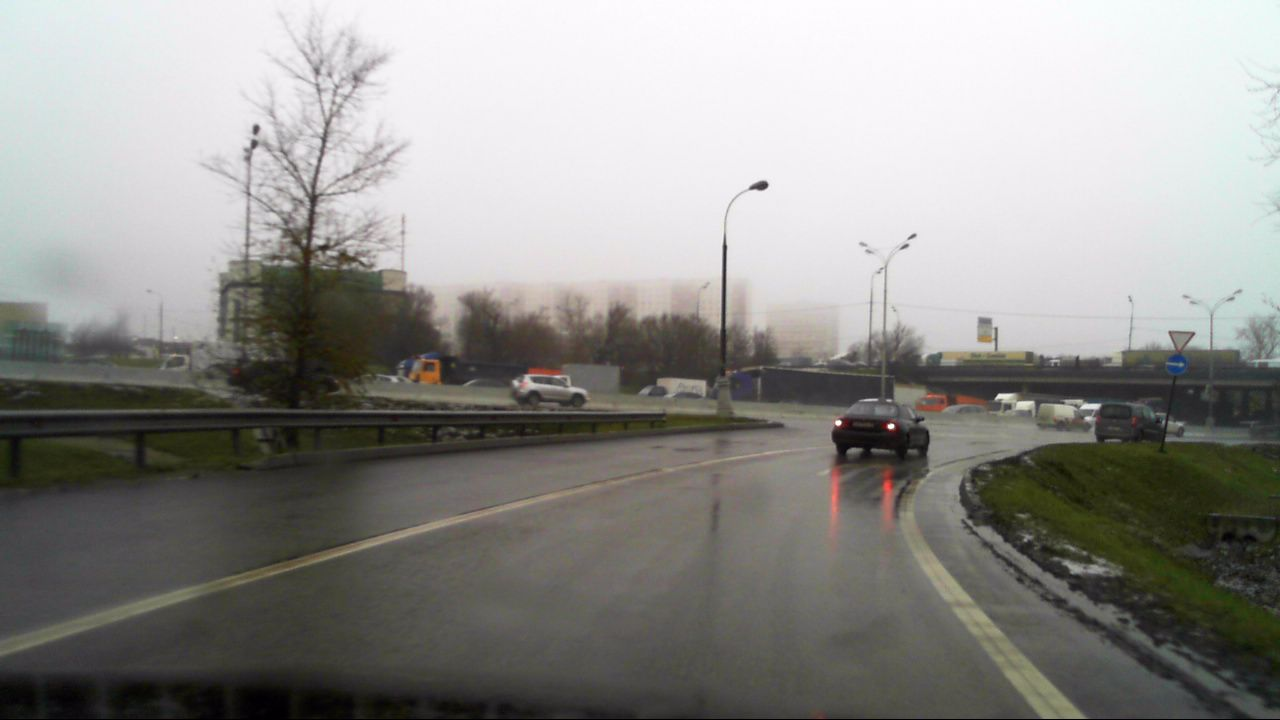Turn Right: (1165, 355, 1188, 375)
